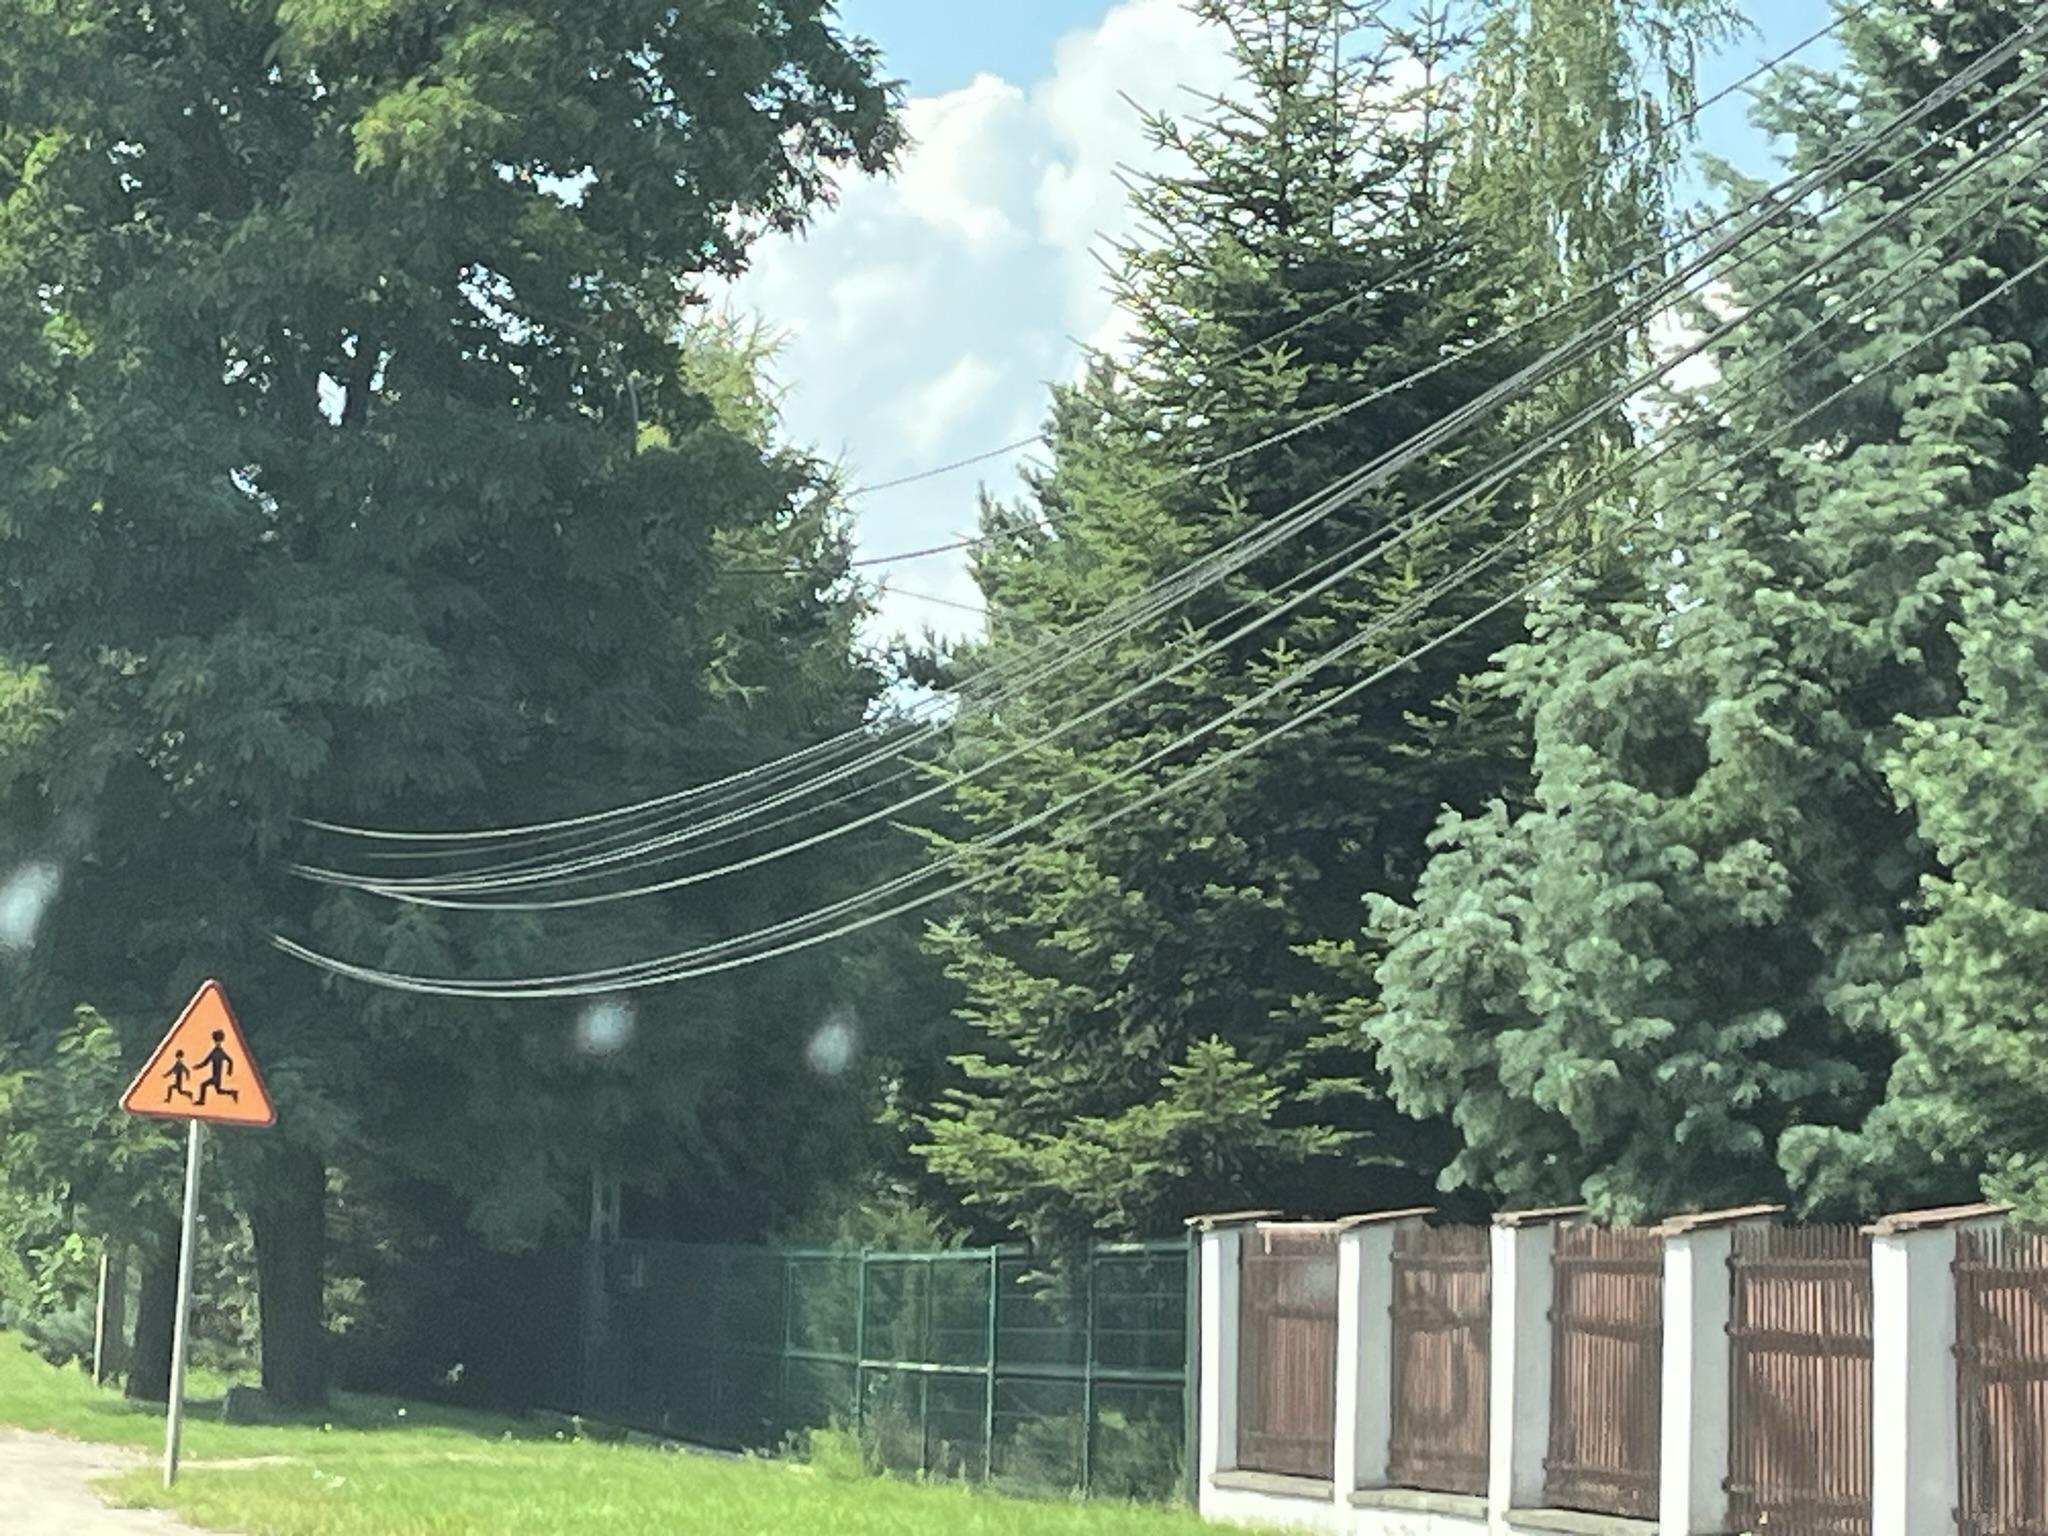warning: (118, 978, 279, 1126)
